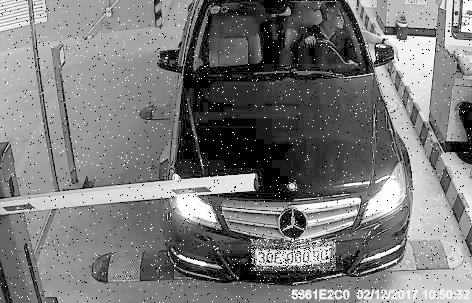License-plate: (252, 241, 337, 274)
